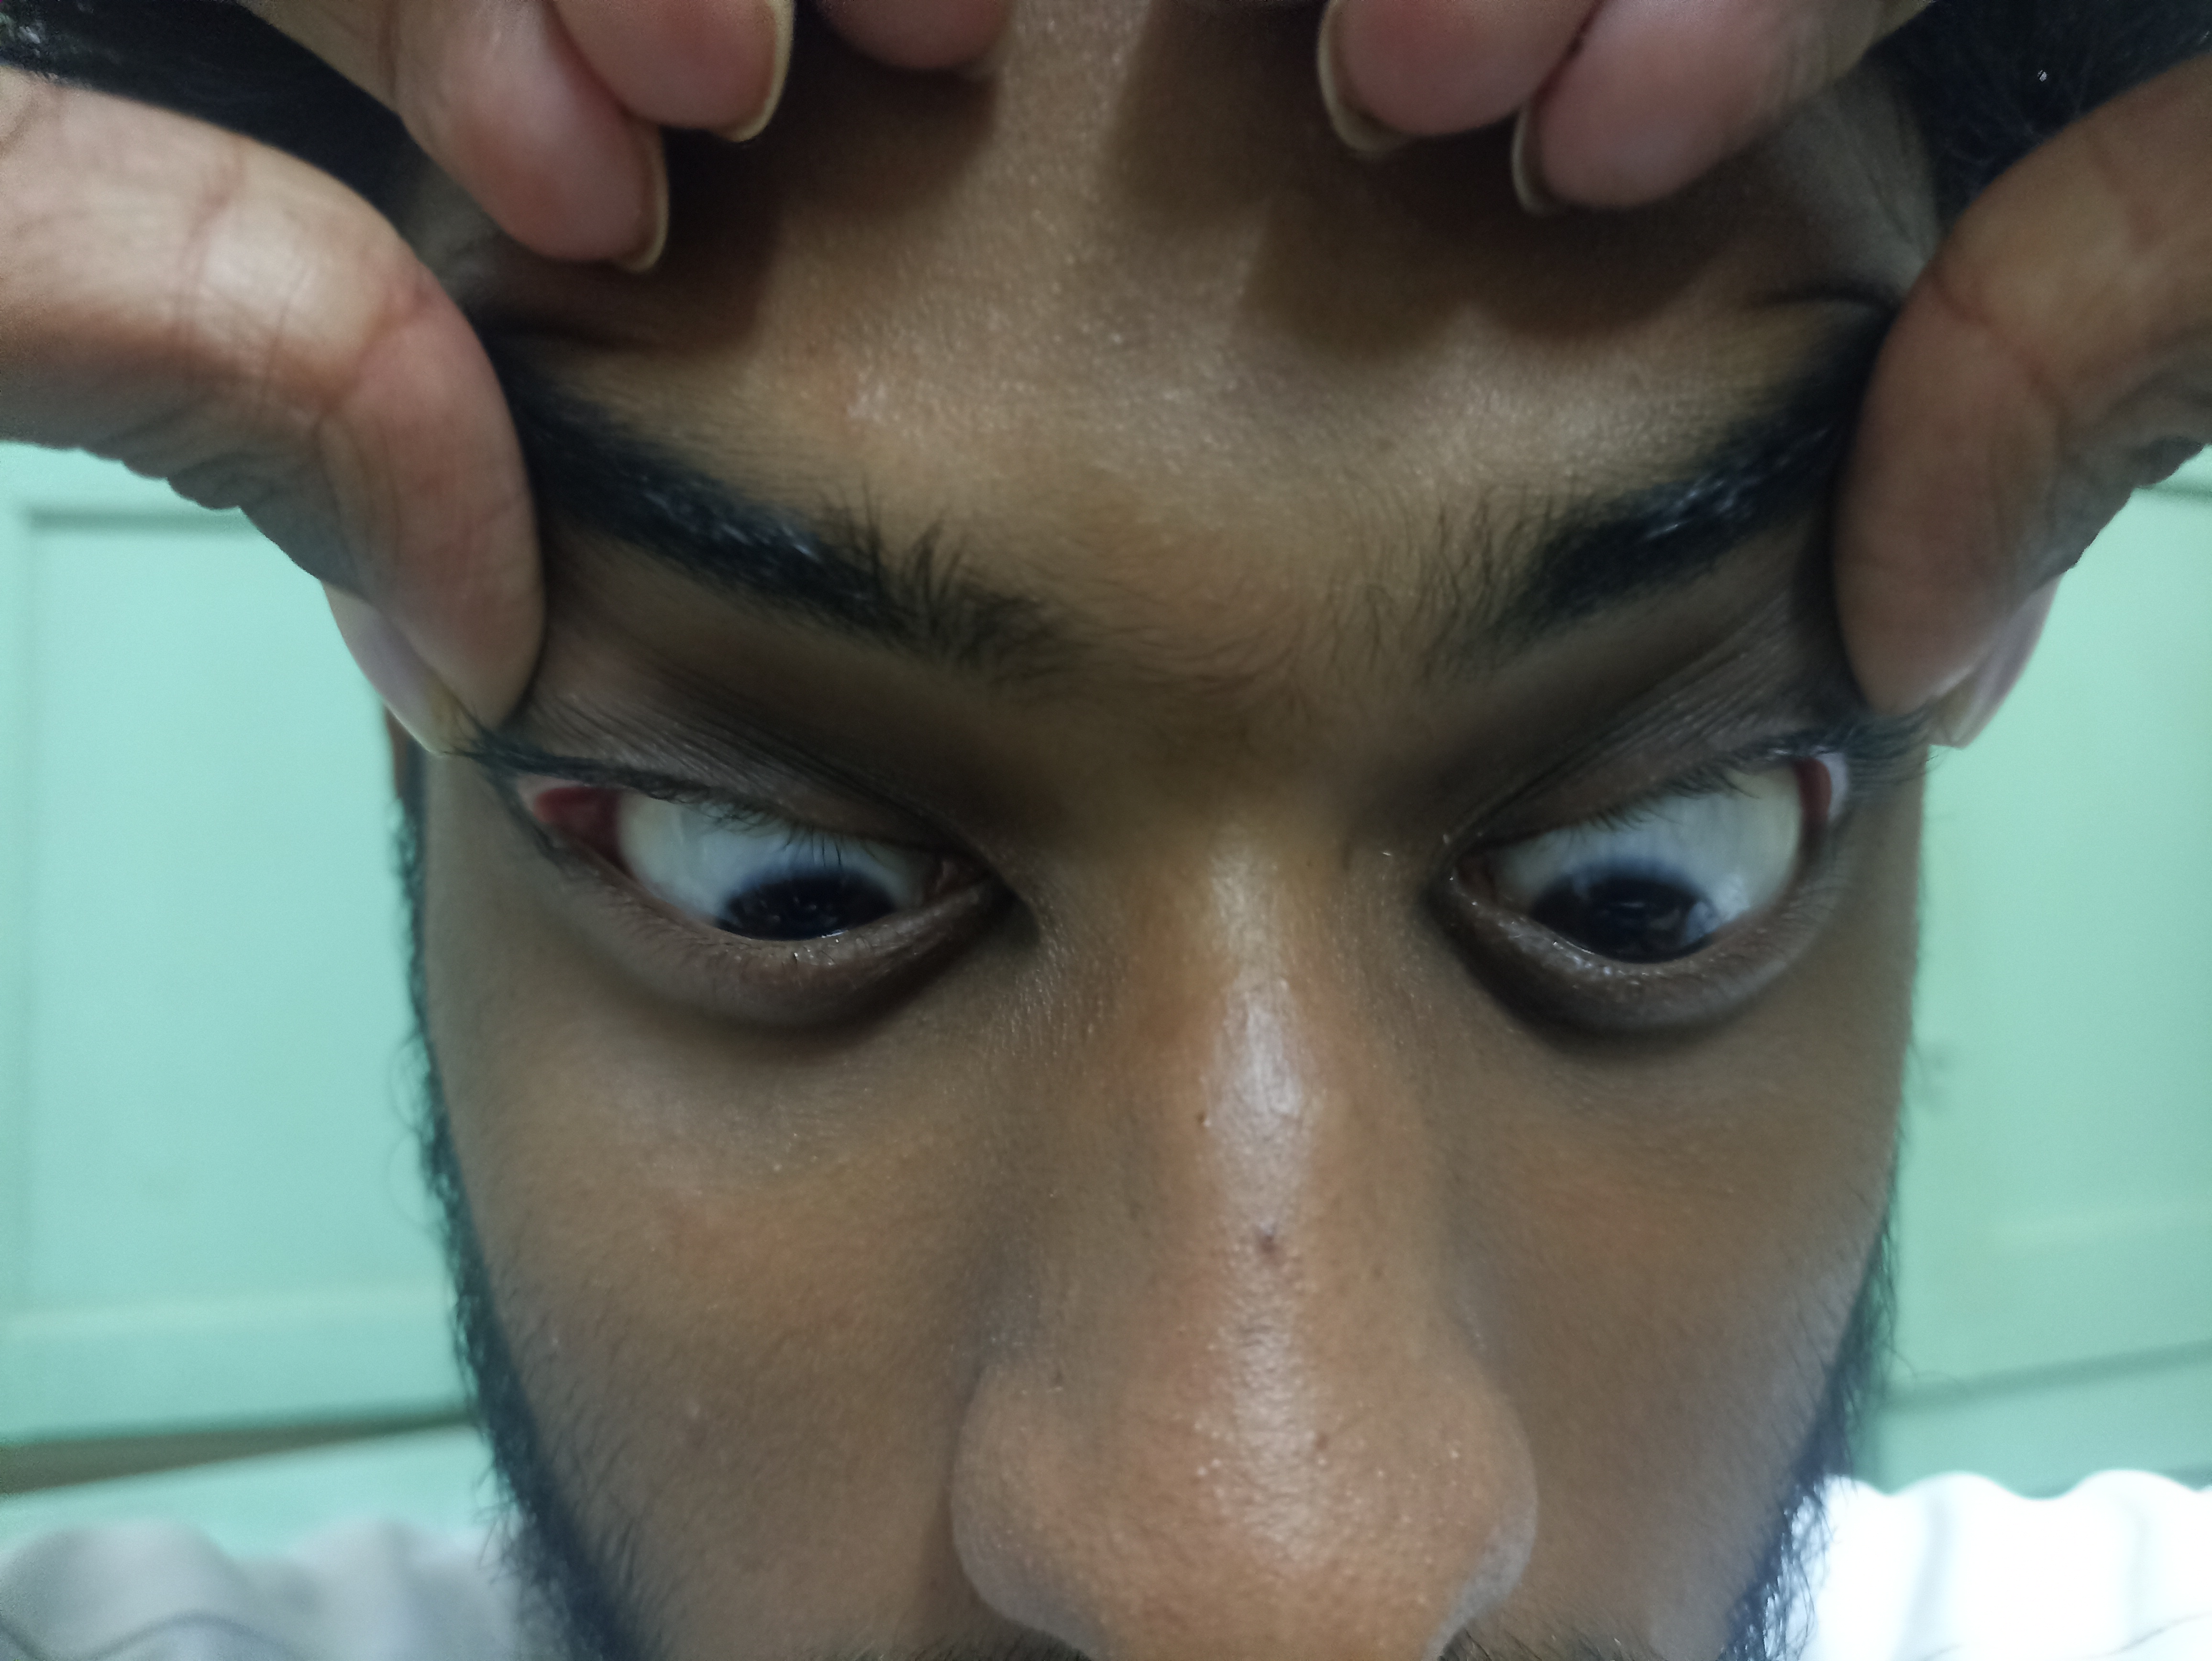EYE DOWN: (255, 398, 1083, 1242), (1317, 401, 1989, 1261)
